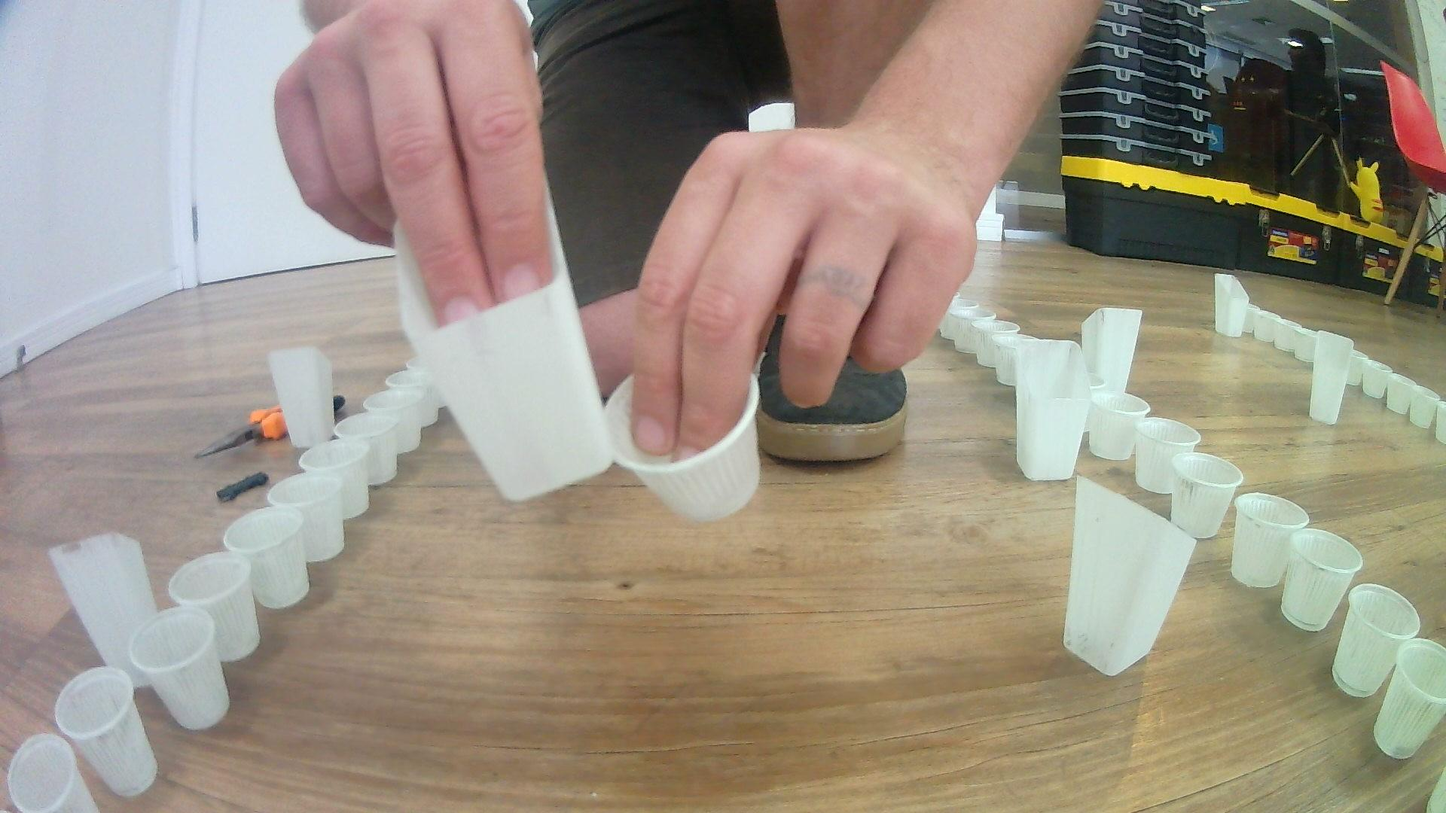erva_daninha: (389, 181, 621, 504), (1061, 473, 1198, 677), (45, 531, 160, 692), (1014, 338, 1094, 483), (265, 346, 337, 450), (1079, 306, 1143, 398), (1308, 332, 1357, 426), (1214, 272, 1251, 339)
planta: (599, 374, 764, 523), (54, 666, 160, 798), (128, 606, 231, 731), (167, 552, 264, 663), (1331, 583, 1421, 699), (1372, 636, 1446, 760), (223, 506, 312, 608), (1280, 527, 1365, 632), (1228, 491, 1311, 589), (5, 733, 99, 813), (267, 471, 346, 562), (1170, 451, 1243, 540), (298, 437, 372, 521), (1134, 417, 1202, 495), (334, 410, 401, 486), (1088, 392, 1152, 461), (362, 388, 423, 453), (383, 367, 444, 428), (991, 332, 1042, 387), (969, 318, 1020, 369), (951, 308, 996, 355), (939, 298, 980, 340), (1243, 301, 1280, 341), (1383, 373, 1418, 415), (1408, 386, 1440, 430), (1271, 318, 1307, 352), (1362, 361, 1393, 399), (1293, 327, 1326, 362), (1347, 351, 1369, 390), (1083, 372, 1106, 395), (1434, 402, 1446, 446), (947, 291, 963, 301)
